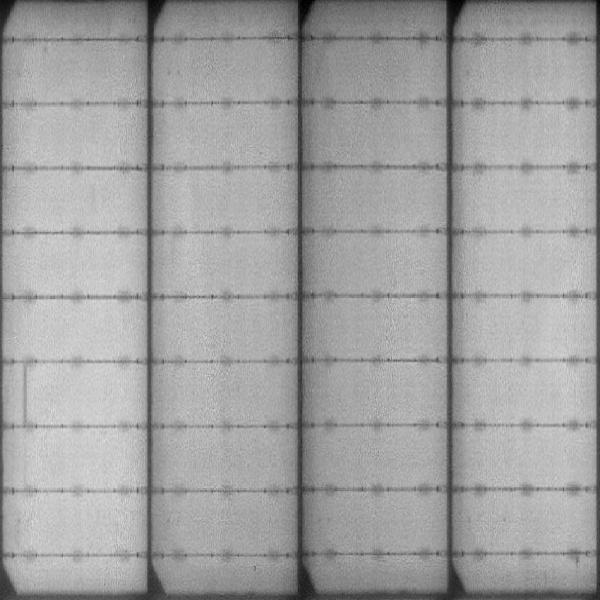scratch: (20, 363, 31, 427)
